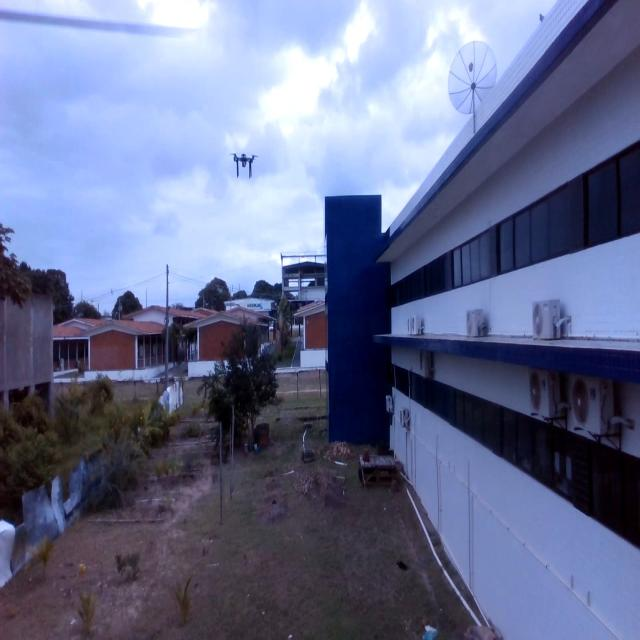-uav-: (219, 142, 263, 193)
